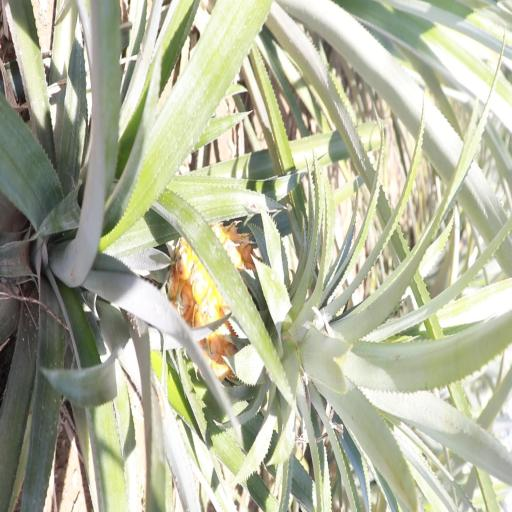Pineapple - v8 v1: (176, 225, 405, 404)
